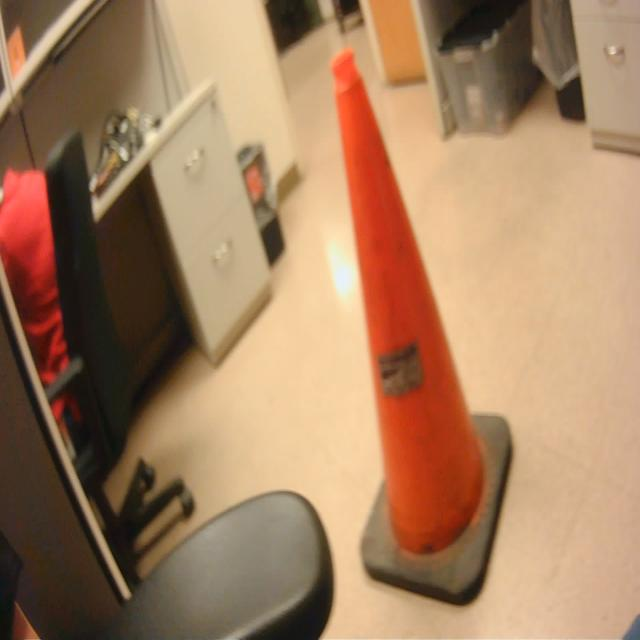traffic cone: (328, 39, 517, 618)
